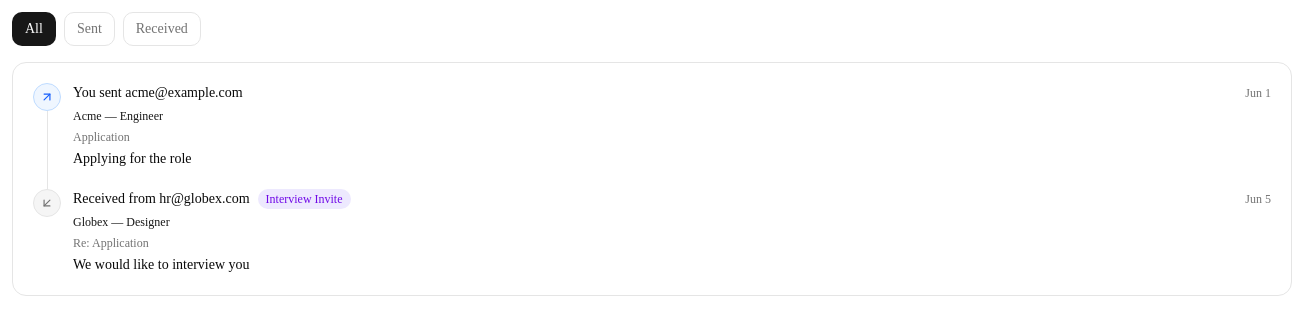
Scenario: filters by direction
The width and height of the screenshot is (1292, 313).
Click the button "Received" at {"x": 162, "y": 29}, box [123, 12, 201, 46]
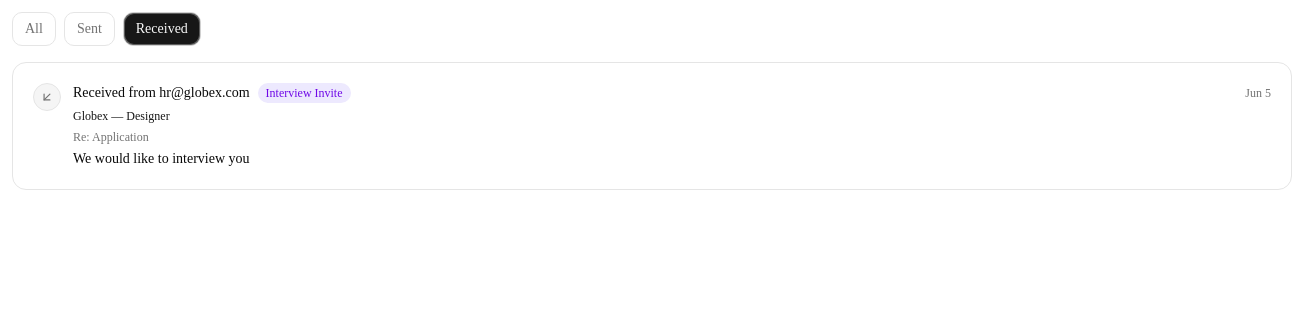
Check: the link "Globex — Designer" is shown, box [73, 108, 170, 124]
Check: the link "Acme — Engineer" is gone
